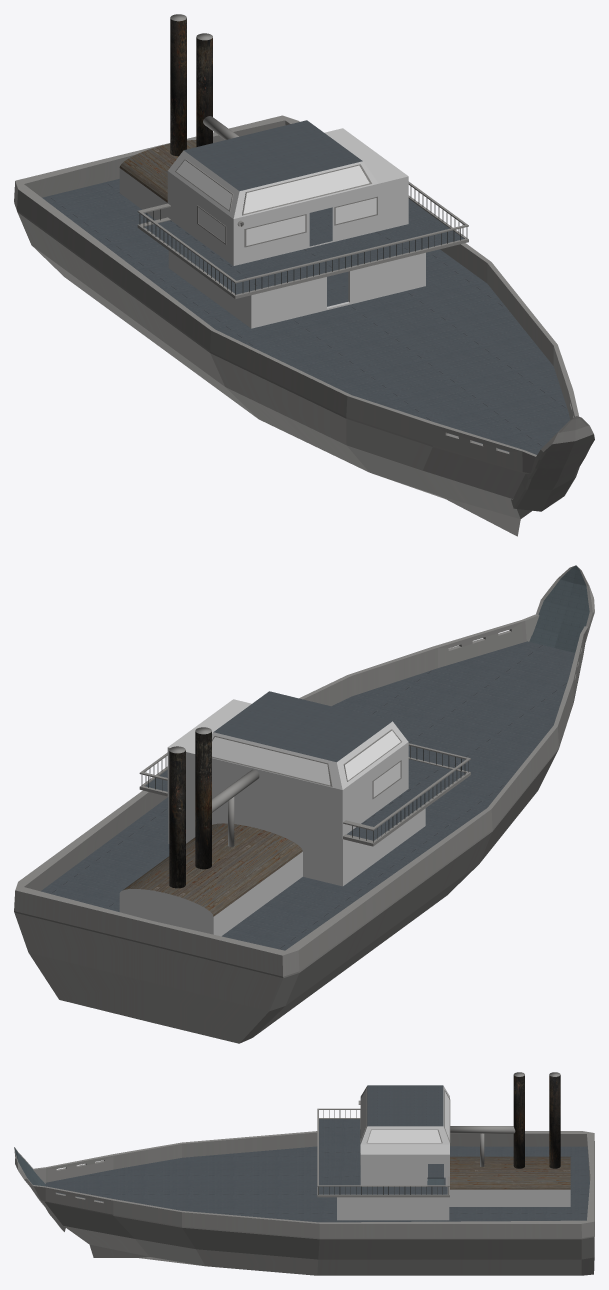
The model's file is Boat.fbx.
3 renders of one model, top to bottom at view 1: azimuth 30°, elevation 25°; view 2: azimuth 150°, elevation 25°; view 3: azimuth 270°, elevation 25°, orthographic. The views are drawn at different scales.
Visible parts, largest first — view 1: Base_Side, Base_Floor, Deck_Room, Deck_Open_Room, Main_Room, Cylinder, Boat_Entry, Deck_Room_Top_Windows, BackSide_Room, Deck_Open_Room_Windows; view 2: Base_Side, Base_Floor, Deck_Room, BackSide_Room, Cylinder, Main_Room, Deck_Open_Room, Deck_Room_Top_Windows, Boat_Entry; view 3: Base_Side, Base_Floor, Deck_Room, BackSide_Room, Deck_Open_Room, Cylinder, Main_Room, Deck_Room_Top_Windows, Boat_Entry.
Boxes of the visible parts, x1,y1,x2,y2 form: Base_Side: [14, 115, 579, 536]; Base_Floor: [42, 179, 570, 454]; Deck_Room: [167, 120, 408, 265]; Deck_Open_Room: [137, 181, 468, 298]; Main_Room: [168, 251, 425, 328]; Cylinder: [170, 14, 244, 227]; Boat_Entry: [511, 416, 594, 511]; Deck_Room_Top_Windows: [175, 159, 371, 215]; BackSide_Room: [119, 140, 196, 219]; Deck_Open_Room_Windows: [197, 196, 377, 247]; Base_Side: [14, 614, 587, 1043]; Base_Floor: [41, 641, 575, 950]; Deck_Room: [167, 691, 408, 839]; BackSide_Room: [119, 823, 302, 936]; Cylinder: [169, 727, 259, 888]; Main_Room: [168, 797, 425, 886]; Deck_Open_Room: [139, 743, 470, 846]; Deck_Room_Top_Windows: [212, 729, 401, 786]; Boat_Entry: [528, 565, 594, 652]; Base_Side: [33, 1131, 594, 1275]; Base_Floor: [45, 1146, 589, 1222]; Deck_Room: [360, 1085, 449, 1186]; BackSide_Room: [449, 1156, 570, 1206]; Deck_Open_Room: [317, 1108, 449, 1197]; Cylinder: [358, 1072, 560, 1168]; Main_Room: [337, 1197, 449, 1220]; Deck_Room_Top_Windows: [360, 1088, 450, 1143]; Boat_Entry: [14, 1147, 65, 1231].
Bounding box in the file's own units: 4026 × 3682 × 10562.
